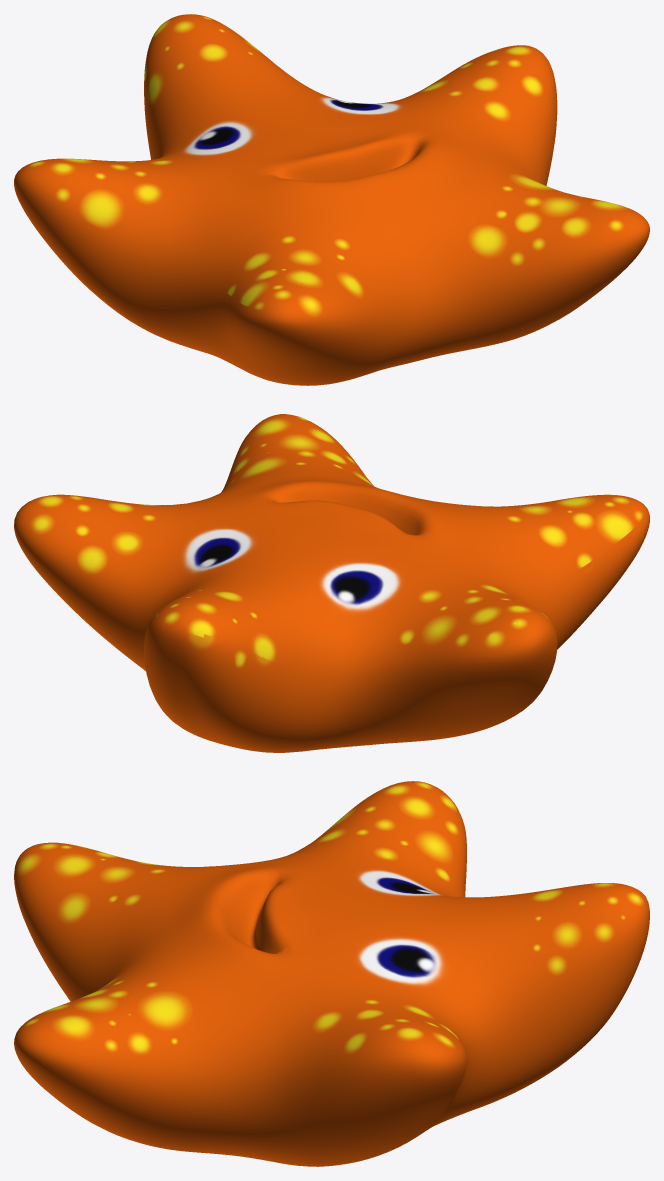
The model's file is igracka1.fbx.
3 renders of one model, top to bottom at view 1: azimuth 30°, elevation 25°; view 2: azimuth 150°, elevation 25°; view 3: azimuth 270°, elevation 25°, orthographic. The views are drawn at different scales.
Parts seen in each view (by area): view 1: Group57341; view 2: Group57341; view 3: Group57341.
Boxes of the visible parts, <box> form: Group57341: <box>14,14,649,385</box>; Group57341: <box>14,414,649,752</box>; Group57341: <box>14,781,649,1166</box>.
Size of the model in its own units: 1056 by 407 by 1025.
1 material, 1 textured.
